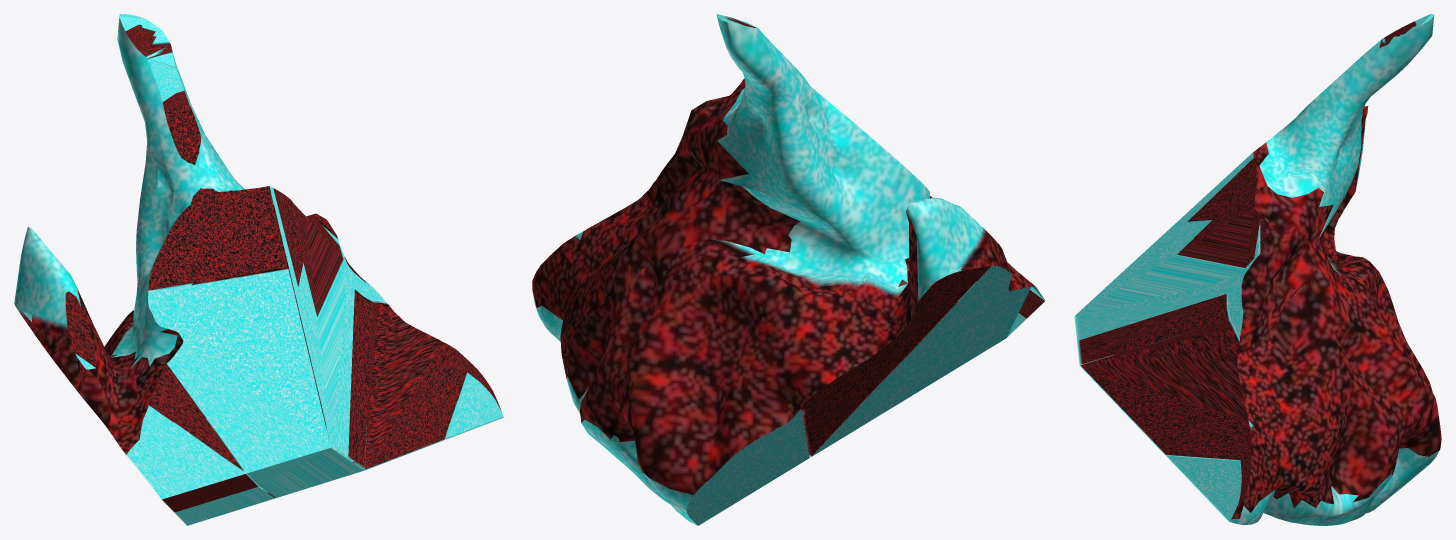
The picture shows the model from 3 angles, left to right: view 1: azimuth 30°, elevation 25°; view 2: azimuth 150°, elevation 25°; view 3: azimuth 270°, elevation 25°; orthographic projection. The views are drawn at different scales.
Visible parts, largest first — view 1: SM_VFX_Withered_Spike_04_LOD0; view 2: SM_VFX_Withered_Spike_04_LOD0; view 3: SM_VFX_Withered_Spike_04_LOD0.
Part boxes in pixels (x1,y1,x2,y2): SM_VFX_Withered_Spike_04_LOD0: (14,14,503,525); SM_VFX_Withered_Spike_04_LOD0: (532,14,1045,525); SM_VFX_Withered_Spike_04_LOD0: (1074,14,1441,525).
Size of the model in its own units: 11.45 by 12.25 by 8.76.
Materials: 1 (1 with a texture image).
